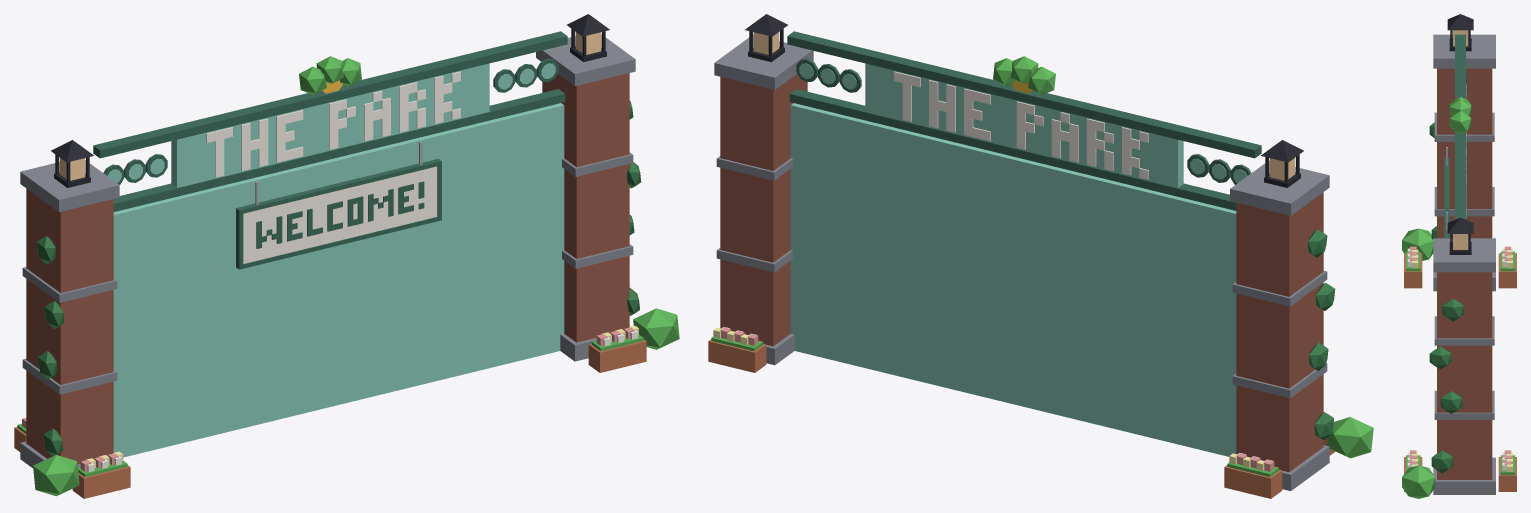
Rendered from CatCafe_Park_GateF85.glb.
The picture shows the model from 3 angles, left to right: view 1: azimuth 30°, elevation 25°; view 2: azimuth 150°, elevation 25°; view 3: azimuth 270°, elevation 25°; orthographic projection. The views are drawn at different scales.
Parts seen in each view (by area): view 1: CatCafe_Park_GateF85_Bars, CatCafe_Park_GateF85, CatCafe_Park_GateF85_SignBoard, CatCafe_Park_GateF85_Flowers, CatCafe_Park_GateF85_Lamp_Bulb; view 2: CatCafe_Park_GateF85_Bars, CatCafe_Park_GateF85, CatCafe_Park_GateF85_Flowers, CatCafe_Park_GateF85_Lamp_Bulb; view 3: CatCafe_Park_GateF85, CatCafe_Park_GateF85_Flowers, CatCafe_Park_GateF85_Lamp_Bulb.
Boxes of the visible parts, <box> form: CatCafe_Park_GateF85_Bars: <box>113,103,564,457</box>; CatCafe_Park_GateF85: <box>14,14,679,498</box>; CatCafe_Park_GateF85_SignBoard: <box>243,166,437,263</box>; CatCafe_Park_GateF85_Flowers: <box>17,325,643,476</box>; CatCafe_Park_GateF85_Lamp_Bulb: <box>59,32,601,180</box>; CatCafe_Park_GateF85_Bars: <box>790,103,1236,456</box>; CatCafe_Park_GateF85: <box>708,14,1373,498</box>; CatCafe_Park_GateF85_Flowers: <box>711,327,1278,476</box>; CatCafe_Park_GateF85_Lamp_Bulb: <box>753,32,1295,180</box>; CatCafe_Park_GateF85: <box>1402,14,1516,498</box>; CatCafe_Park_GateF85_Flowers: <box>1406,246,1515,474</box>; CatCafe_Park_GateF85_Lamp_Bulb: <box>1453,30,1468,249</box>.
Size of the model in its own units: 32.95 by 17.1 by 6.32.
Materials: 1 (1 with a texture image).
